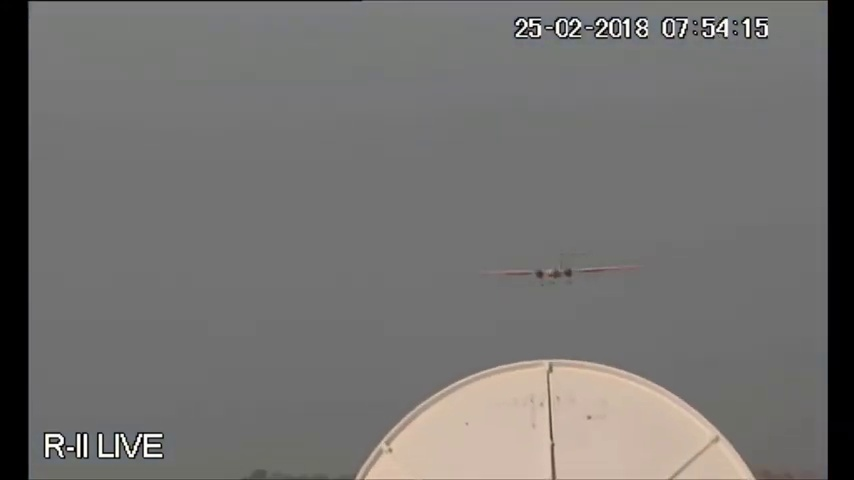military drone: (482, 253, 643, 286)
